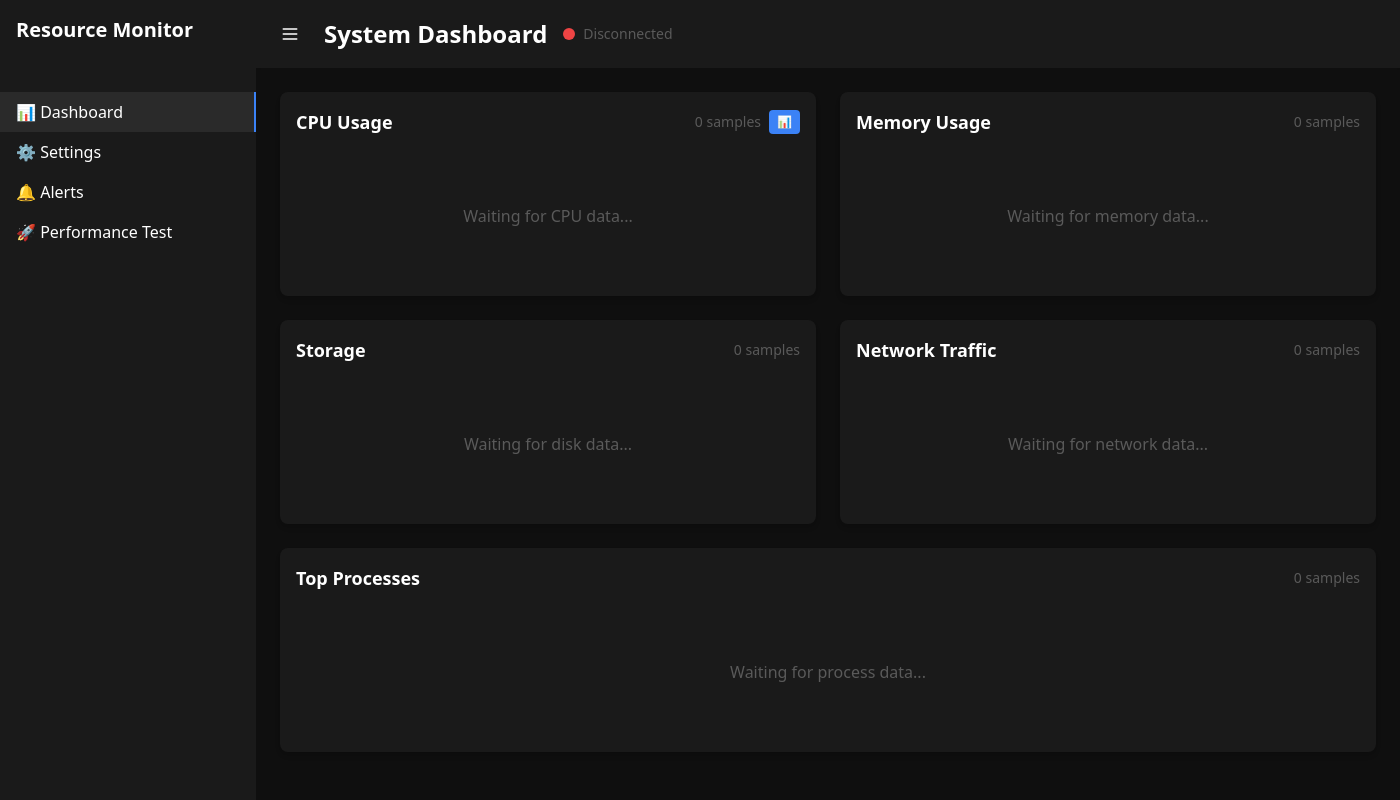
Test case: Navigation E2E Tests › navigates to alerts page
// Look for alerts navigation
Click the link with test id "alerts-nav" at (50, 192), box [16,181,84,203]
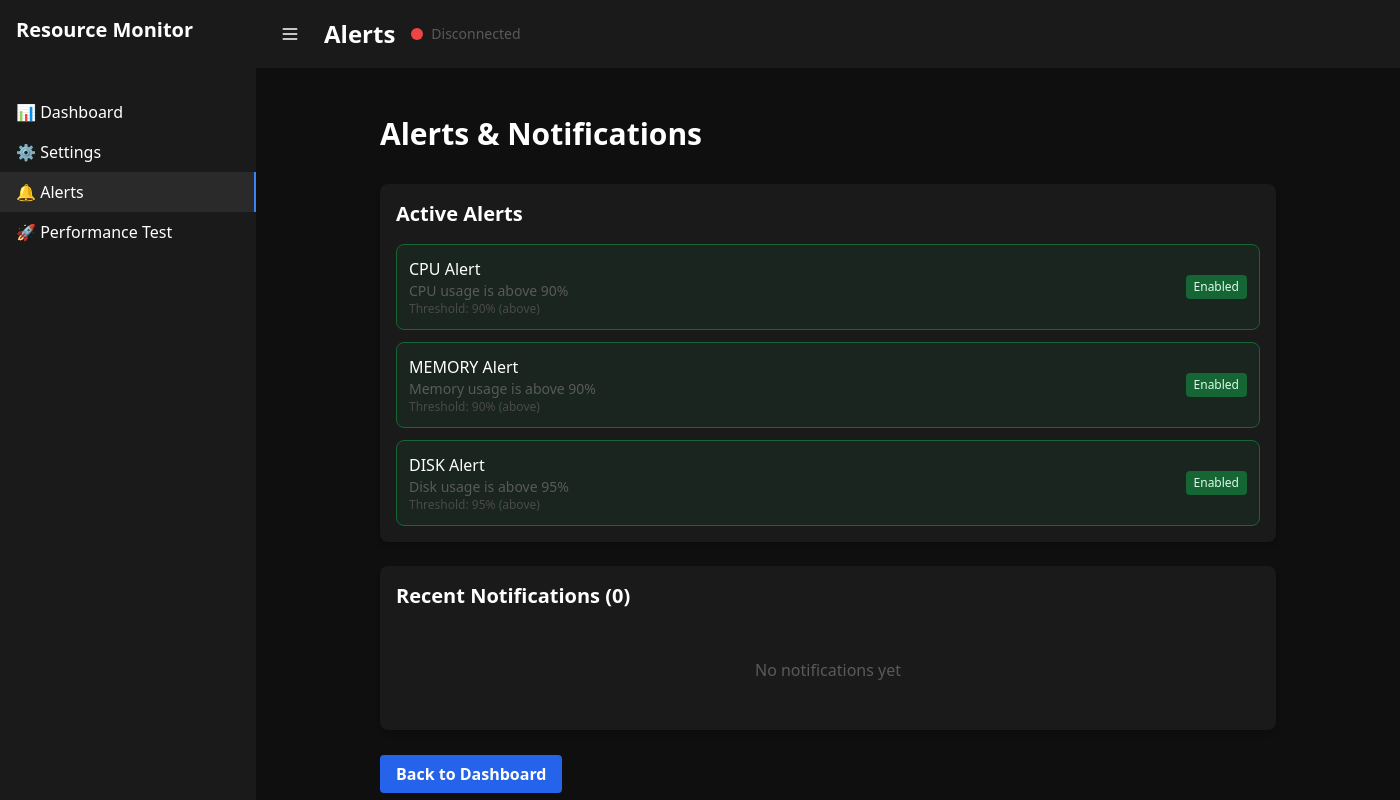
Expected: the heading "Alerts & Notifications" is shown, [380,113,702,154]
